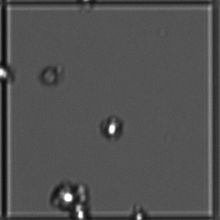Dead Cell: (37, 62, 67, 92)
Living Cell: (50, 170, 91, 211), (97, 111, 129, 143), (1, 63, 26, 89)
